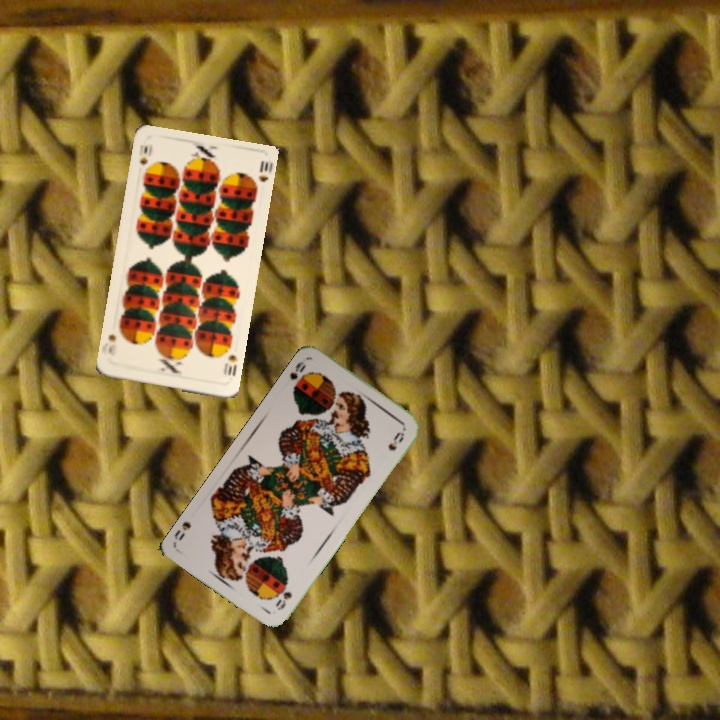S10: (219, 351, 240, 379), (135, 141, 150, 168)
SO: (271, 583, 295, 613), (286, 357, 308, 383)
